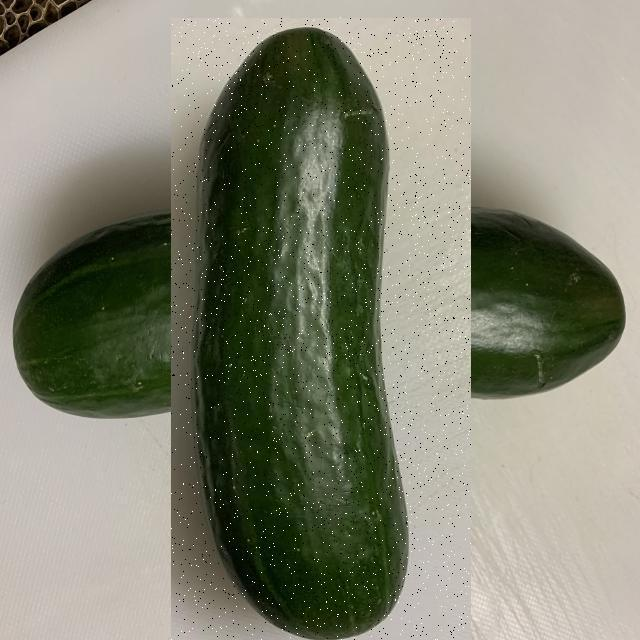Cucumber: (189, 19, 403, 640)
